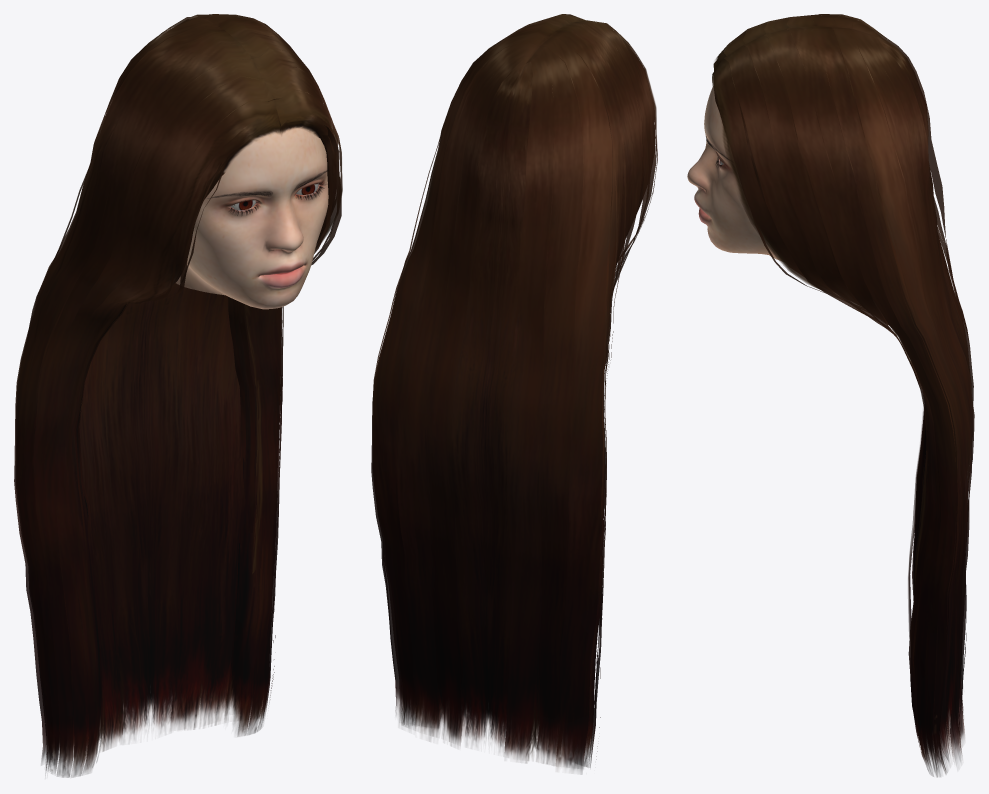
File: laura-head-combined.glb
3 views of the same model, side by side, from view 1: azimuth 30°, elevation 25°; view 2: azimuth 150°, elevation 25°; view 3: azimuth 270°, elevation 25° (orthographic). The views are drawn at different scales.
Visible parts, largest first — view 1: Laura native MPFB head.long01, Laura native MPFB head; view 2: Laura native MPFB head.long01; view 3: Laura native MPFB head.long01, Laura native MPFB head.
Part boxes in pixels (x1=…): Laura native MPFB head.long01: x1=14, y1=14, x2=342, y2=777; Laura native MPFB head: x1=176, y1=126, x2=328, y2=309; Laura native MPFB head.long01: x1=371, y1=14, x2=657, y2=774; Laura native MPFB head.long01: x1=712, y1=14, x2=974, y2=777; Laura native MPFB head: x1=687, y1=85, x2=781, y2=260.
Bounding box in the file's own units: 0.2344 × 0.6545 × 0.2384.
Materials: 5 (5 with a texture image).
